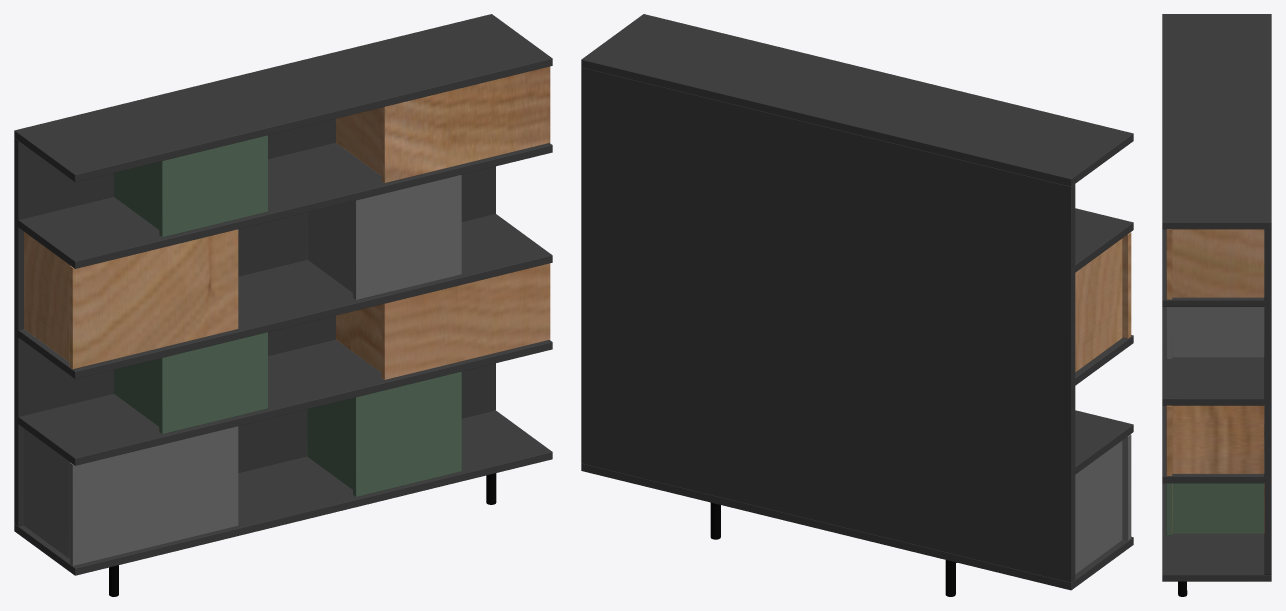
The model's file is Fowler Large Shelving Unit, Multicolour Oak.fbx.
3 renders of one model, left to right at view 1: azimuth 30°, elevation 25°; view 2: azimuth 150°, elevation 25°; view 3: azimuth 270°, elevation 25°, orthographic. The views are drawn at different scales.
Visible parts, largest first — view 1: Fowler_Large_Shelving_Unit; view 2: Fowler_Large_Shelving_Unit; view 3: Fowler_Large_Shelving_Unit.
Part boxes in pixels (left/top/right/bottom): Fowler_Large_Shelving_Unit: left=14, top=14, right=552, bottom=596; Fowler_Large_Shelving_Unit: left=581, top=14, right=1133, bottom=596; Fowler_Large_Shelving_Unit: left=1162, top=14, right=1271, bottom=596.
Size of what is drawn, in the model's own units: 160 by 141 by 35.38.
